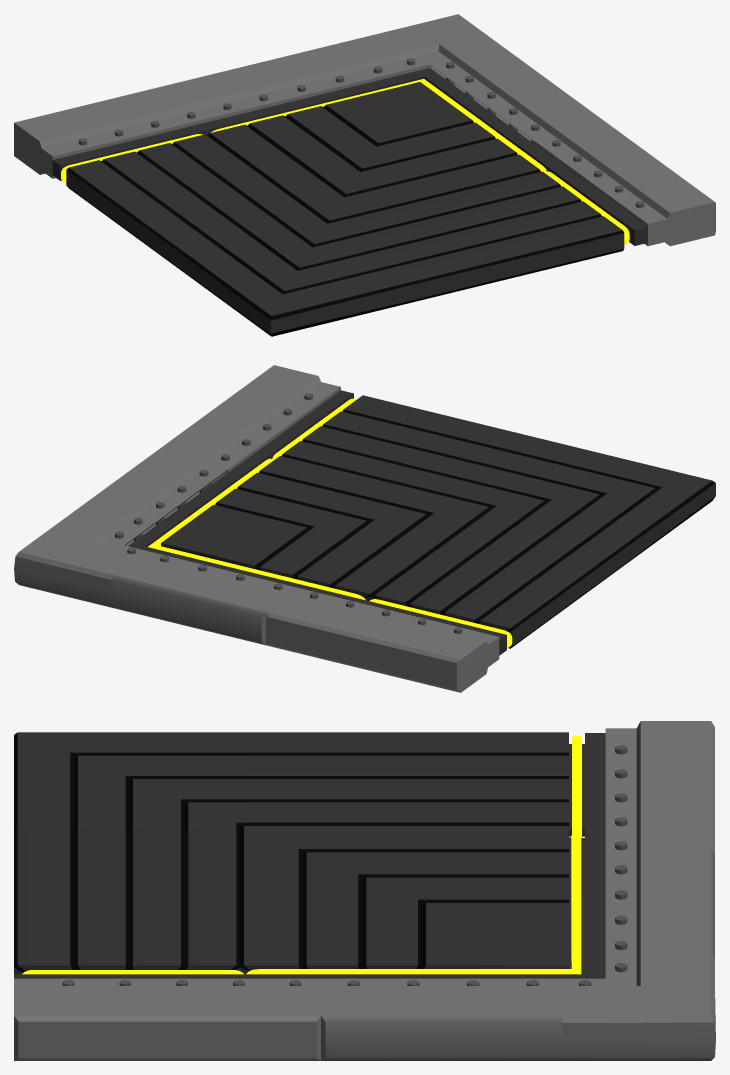
The model's file is PlatformSegmentCorner.fbx.
3 renders of one model, top to bottom at view 1: azimuth 30°, elevation 25°; view 2: azimuth 150°, elevation 25°; view 3: azimuth 270°, elevation 25°, orthographic. The views are drawn at different scales.
Parts seen in each view (by area): view 1: Floor (×2), Trim, Trim1, Trim2, PlatformEmissive, Bolts, PlatformEmissiveEdge2; view 2: Floor (×2), Trim, Trim2, Trim1, PlatformEmissive, Bolts, PlatformEmissiveEdge1; view 3: Floor (×2), Trim, Trim1, Trim2, PlatformEmissive, PlatformEmissiveEdge2, PlatformEmissiveEdge1, Bolts, Bolts2.
Boxes of the visible parts, x1=… form: Floor (×2): x1=52, y1=68, x2=647, y2=336; Trim: x1=210, y1=14, x2=601, y2=141; Trim1: x1=535, y1=119, x2=715, y2=246; Trim2: x1=14, y1=75, x2=248, y2=178; PlatformEmissive: x1=211, y1=79, x2=546, y2=172; Bolts: x1=259, y1=58, x2=539, y2=144; PlatformEmissiveEdge2: x1=544, y1=171, x2=629, y2=244; Floor (×2): x1=128, y1=390, x2=715, y2=655; Trim: x1=14, y1=447, x2=304, y2=645; Trim2: x1=266, y1=589, x2=499, y2=692; Trim1: x1=162, y1=365, x2=340, y2=473; PlatformEmissive: x1=148, y1=458, x2=365, y2=600; Bolts: x1=115, y1=469, x2=282, y2=590; PlatformEmissiveEdge1: x1=369, y1=599, x2=512, y2=647; Floor (×2): x1=14, y1=732, x2=605, y2=978; Trim: x1=321, y1=850, x2=715, y2=1060; Trim1: x1=14, y1=978, x2=320, y2=1060; Trim2: x1=605, y1=721, x2=714, y2=858; PlatformEmissive: x1=246, y1=833, x2=581, y2=974; PlatformEmissiveEdge2: x1=22, y1=970, x2=243, y2=974; PlatformEmissiveEdge1: x1=572, y1=735, x2=581, y2=837; Bolts: x1=347, y1=865, x2=627, y2=985; Bolts2: x1=615, y1=745, x2=627, y2=850.
Size of the model in its own units: 9.07 by 0.6437 by 9.03.
